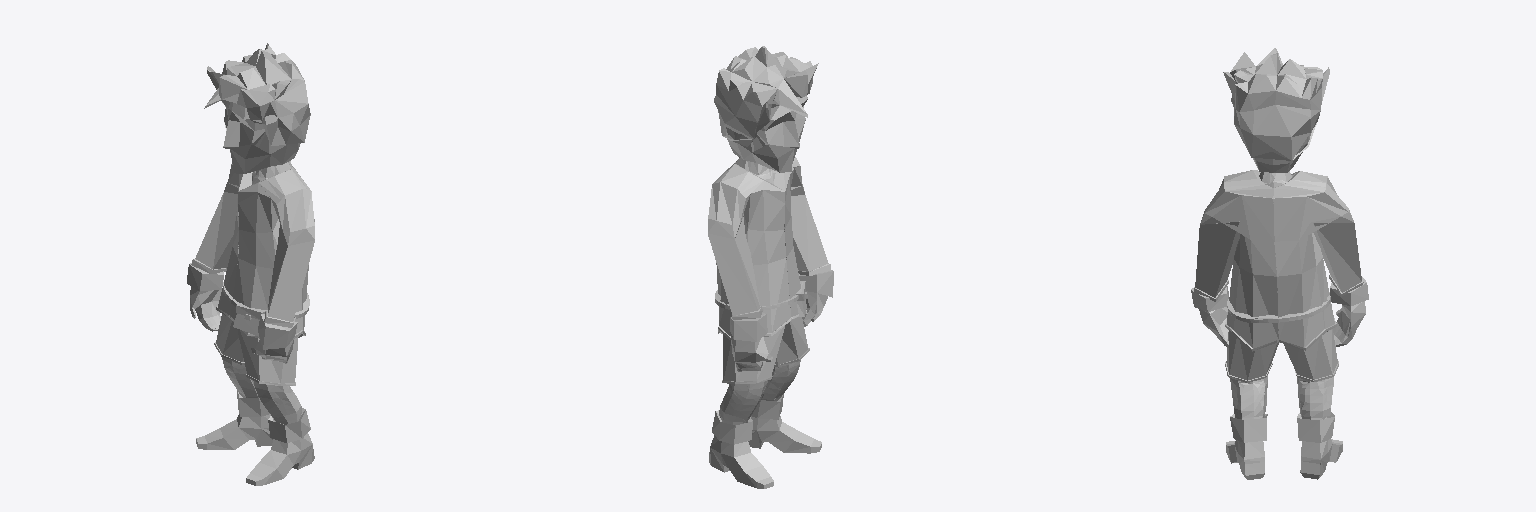
The model's file is idleNoWeapon18.obj.
3 views of the same model, side by side, from view 1: azimuth 30°, elevation 25°; view 2: azimuth 150°, elevation 25°; view 3: azimuth 270°, elevation 25° (orthographic).
Parts seen in each view (by area): view 1: Jacket__jaket_Cylinder.001_Jacket__jaket_Cylinder.001_P_e8d_Jack, Hair_Hair__Cube.000_Hair_Hair__Cube.000_PlayerMaterialOffic_Hair, Head_Head_Cube.000_Head_Head_Cube.000_PlayerMaterialOfficia_Head, Boot_right_bota_Cube.000_Boot_right_bota_Cube.000_Playe_7d6_Boot, Trausers_trausers_Cylinder.000_Trausers_trausers_Cylind_bfd_Trau, Humanoide_Body_Base_Modified_Humanoide_Base_Base_NPC__c_7f8_Huma, Boot_left_bota_Cube.001_Boot_left_bota_Cube.001_PlayerM_5d3_Boot, Globe_left_globe_Cylinder.001_Globe_left_globe_Cylinder_383_Glob, Globe_right_globe_Cylinder.005_Globe_right_globe_Cylind_70e_Glob, Bag_Cube_Cube.001_Bag_Cube_Cube.001_PlayerMaterialOfficial.001_B; view 2: Jacket__jaket_Cylinder.001_Jacket__jaket_Cylinder.001_P_e8d_Jack, Hair_Hair__Cube.000_Hair_Hair__Cube.000_PlayerMaterialOffic_Hair, Head_Head_Cube.000_Head_Head_Cube.000_PlayerMaterialOfficia_Head, Boot_left_bota_Cube.001_Boot_left_bota_Cube.001_PlayerM_5d3_Boot, Humanoide_Body_Base_Modified_Humanoide_Base_Base_NPC__c_7f8_Huma, Trausers_trausers_Cylinder.000_Trausers_trausers_Cylind_bfd_Trau, Boot_right_bota_Cube.000_Boot_right_bota_Cube.000_Playe_7d6_Boot, Globe_left_globe_Cylinder.001_Globe_left_globe_Cylinder_383_Glob, Globe_right_globe_Cylinder.005_Globe_right_globe_Cylind_70e_Glob; view 3: Jacket__jaket_Cylinder.001_Jacket__jaket_Cylinder.001_P_e8d_Jack, Hair_Hair__Cube.000_Hair_Hair__Cube.000_PlayerMaterialOffic_Hair, Trausers_trausers_Cylinder.000_Trausers_trausers_Cylind_bfd_Trau, Humanoide_Body_Base_Modified_Humanoide_Base_Base_NPC__c_7f8_Huma, Boot_left_bota_Cube.001_Boot_left_bota_Cube.001_PlayerM_5d3_Boot, Boot_right_bota_Cube.000_Boot_right_bota_Cube.000_Playe_7d6_Boot, Globe_left_globe_Cylinder.001_Globe_left_globe_Cylinder_383_Glob, Globe_right_globe_Cylinder.005_Globe_right_globe_Cylind_70e_Glob, Belt_Cylinder.001_Belt_Cylinder.001_PlayerMaterialOfficial.001_B, Head_Head_Cube.000_Head_Head_Cube.000_PlayerMaterialOfficia_Head.
Boxes of the visible parts, x1,y1,x2,y2 form: Jacket__jaket_Cylinder.001_Jacket__jaket_Cylinder.001_P_e8d_Jack: [191, 164, 314, 338]; Hair_Hair__Cube.000_Hair_Hair__Cube.000_PlayerMaterialOffic_Hair: [204, 43, 310, 145]; Head_Head_Cube.000_Head_Head_Cube.000_PlayerMaterialOfficia_Head: [221, 100, 300, 173]; Boot_right_bota_Cube.000_Boot_right_bota_Cube.000_Playe_7d6_Boot: [246, 408, 314, 485]; Trausers_trausers_Cylinder.000_Trausers_trausers_Cylind_bfd_Trau: [214, 314, 298, 385]; Humanoide_Body_Base_Modified_Humanoide_Base_Base_NPC__c_7f8_Huma: [222, 161, 302, 424]; Boot_left_bota_Cube.001_Boot_left_bota_Cube.001_PlayerM_5d3_Boot: [196, 391, 272, 449]; Globe_left_globe_Cylinder.001_Globe_left_globe_Cylinder_383_Glob: [187, 263, 223, 331]; Globe_right_globe_Cylinder.005_Globe_right_globe_Cylind_70e_Glob: [251, 314, 297, 363]; Bag_Cube_Cube.001_Bag_Cube_Cube.001_PlayerMaterialOfficial.001_B: [233, 303, 265, 336]; Jacket__jaket_Cylinder.001_Jacket__jaket_Cylinder.001_P_e8d_Jack: [708, 157, 830, 339]; Hair_Hair__Cube.000_Hair_Hair__Cube.000_PlayerMaterialOffic_Hair: [714, 46, 818, 146]; Head_Head_Cube.000_Head_Head_Cube.000_PlayerMaterialOfficia_Head: [725, 96, 807, 172]; Boot_left_bota_Cube.001_Boot_left_bota_Cube.001_PlayerM_5d3_Boot: [709, 410, 773, 488]; Humanoide_Body_Base_Modified_Humanoide_Base_Base_NPC__c_7f8_Huma: [719, 157, 800, 425]; Trausers_trausers_Cylinder.000_Trausers_trausers_Cylind_bfd_Trau: [722, 317, 809, 383]; Boot_right_bota_Cube.000_Boot_right_bota_Cube.000_Playe_7d6_Boot: [748, 394, 821, 453]; Globe_left_globe_Cylinder.001_Globe_left_globe_Cylinder_383_Glob: [730, 313, 772, 371]; Globe_right_globe_Cylinder.005_Globe_right_globe_Cylind_70e_Glob: [799, 270, 833, 326]; Jacket__jaket_Cylinder.001_Jacket__jaket_Cylinder.001_P_e8d_Jack: [1194, 170, 1363, 351]; Hair_Hair__Cube.000_Hair_Hair__Cube.000_PlayerMaterialOffic_Hair: [1223, 48, 1329, 160]; Trausers_trausers_Cylinder.000_Trausers_trausers_Cylind_bfd_Trau: [1225, 329, 1338, 382]; Humanoide_Body_Base_Modified_Humanoide_Base_Base_NPC__c_7f8_Huma: [1230, 171, 1333, 419]; Boot_left_bota_Cube.001_Boot_left_bota_Cube.001_PlayerM_5d3_Boot: [1297, 412, 1342, 479]; Boot_right_bota_Cube.000_Boot_right_bota_Cube.000_Playe_7d6_Boot: [1226, 414, 1267, 479]; Globe_left_globe_Cylinder.001_Globe_left_globe_Cylinder_383_Glob: [1330, 277, 1368, 346]; Globe_right_globe_Cylinder.005_Globe_right_globe_Cylind_70e_Glob: [1191, 286, 1228, 347]; Belt_Cylinder.001_Belt_Cylinder.001_PlayerMaterialOfficial.001_B: [1227, 292, 1330, 322]; Head_Head_Cube.000_Head_Head_Cube.000_PlayerMaterialOfficia_Head: [1253, 131, 1311, 172].
Bounding box in the file's own units: 9.3 × 39.79 × 15.62.